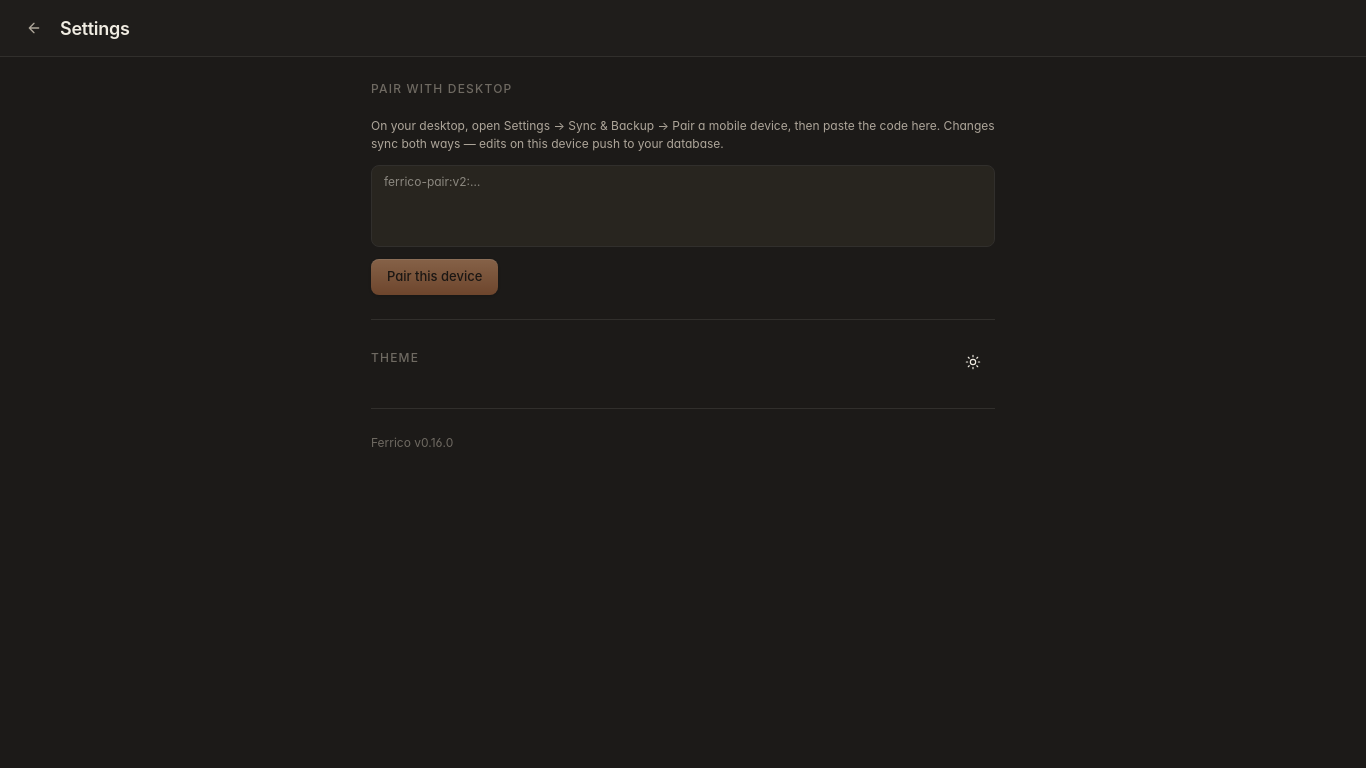
MobileSettings › surfaces an error for an invalid pairing code and keeps the textarea visible
Type "garbage" into the text box named "Pairing code" at (683, 206), box x1=371 y1=165 x2=995 y2=247
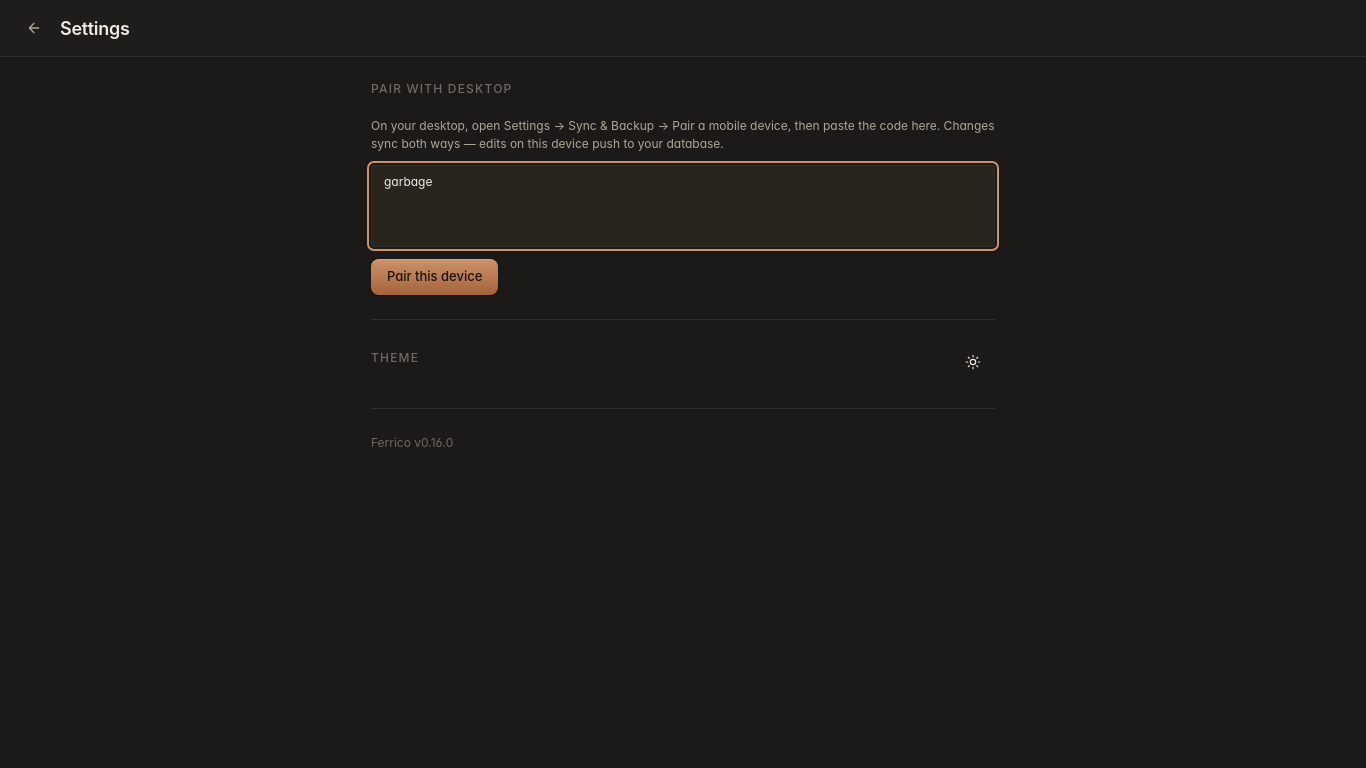
Click the button "Pair this device" at (435, 277), box x1=371 y1=259 x2=498 y2=295
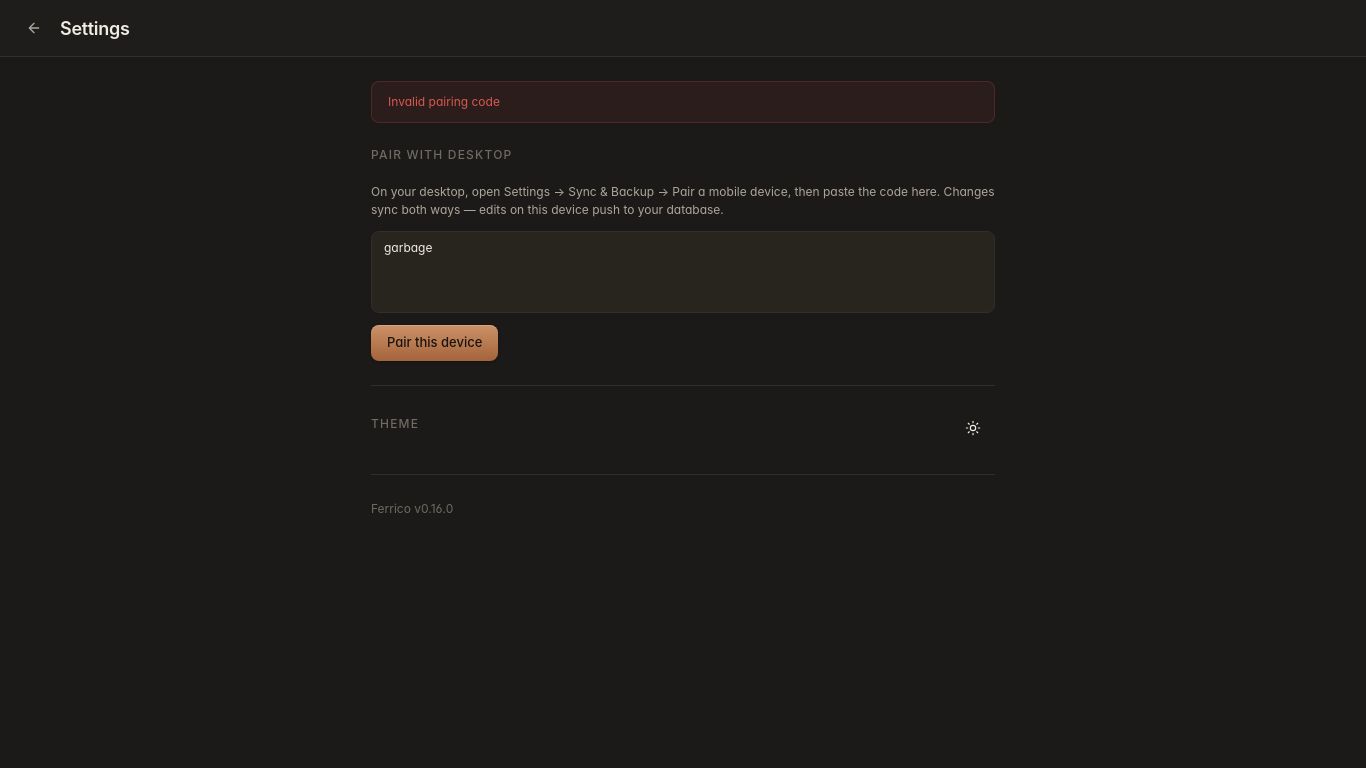
Result: the message reads "Invalid pairing code" at x1=388 y1=94 x2=500 y2=109
